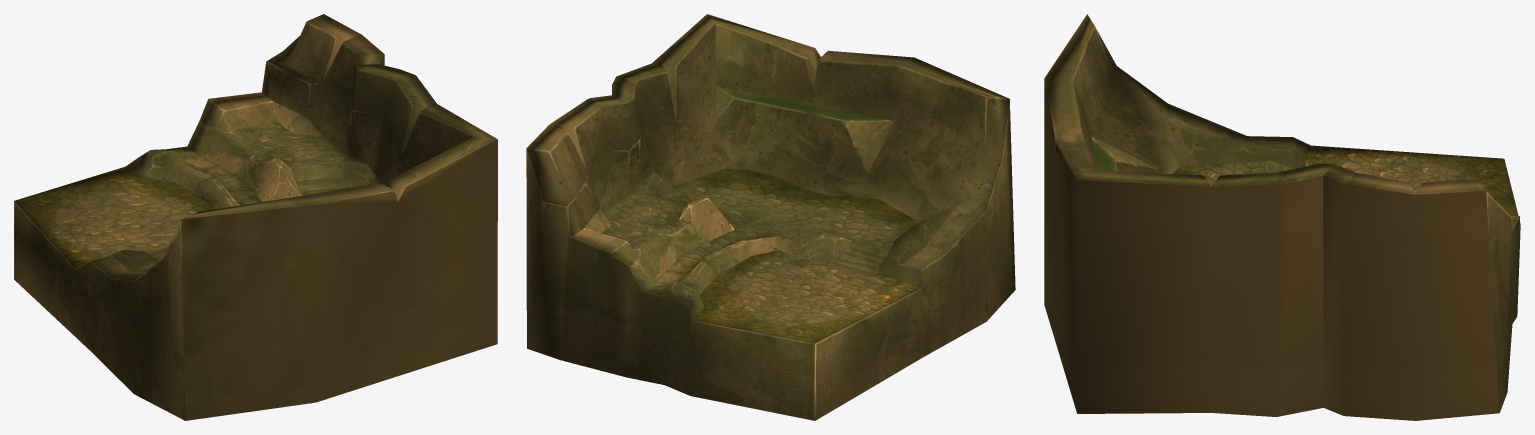
Rendered from GameMap2.fbx.
3 renders of one model, left to right at view 1: azimuth 30°, elevation 25°; view 2: azimuth 150°, elevation 25°; view 3: azimuth 270°, elevation 25°, orthographic. The views are drawn at different scales.
Visible parts, largest first — view 1: Plane001; view 2: Plane001; view 3: Plane001.
Boxes of the visible parts, x1,y1,x2,y2 form: Plane001: [14, 14, 497, 420]; Plane001: [526, 14, 1015, 420]; Plane001: [1044, 14, 1520, 420].
Bounding box in the file's own units: 172 × 100 × 185.
